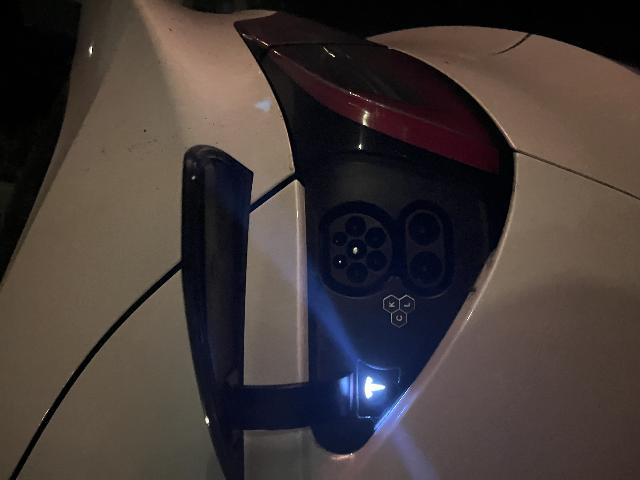inlet: (193, 329, 267, 392)
inlet-above-left: (211, 333, 226, 347)
inlet-above-right: (234, 332, 249, 346)
inlet-below-left: (209, 366, 229, 386)
inlet-below-right: (232, 365, 253, 386)
inlet-circle: (220, 345, 241, 367)
inlet-circle-left: (197, 346, 217, 367)
inlet-circle-right: (243, 344, 263, 366)
inlet-minus: (234, 408, 268, 440)
inlet-plus: (195, 410, 229, 441)
